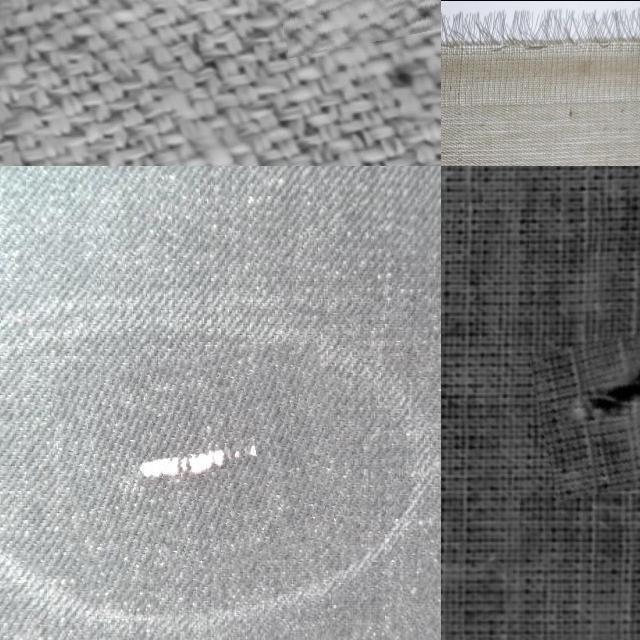other: (534, 327, 640, 493)
stains: (59, 346, 346, 578)
